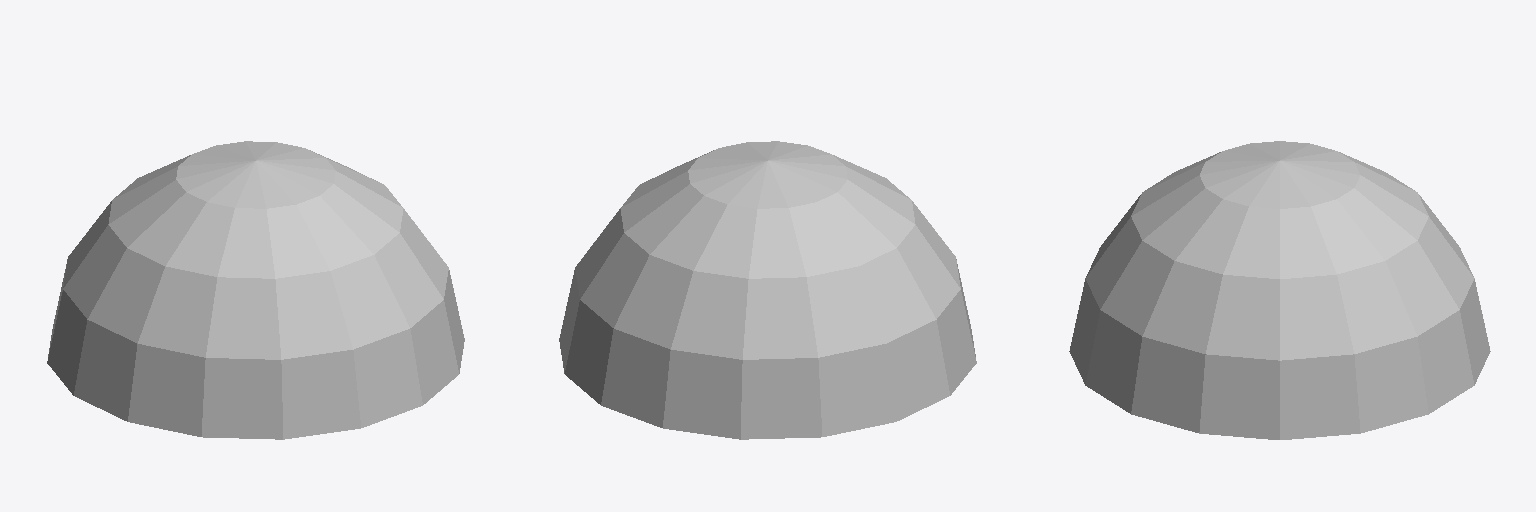
File: skyNight.obj
3 views of the same model, side by side, from view 1: azimuth 30°, elevation 25°; view 2: azimuth 150°, elevation 25°; view 3: azimuth 270°, elevation 25° (orthographic).
Visible parts, largest first — view 1: sky.Night_sky; view 2: sky.Night_sky; view 3: sky.Night_sky.
Part boxes in pixels (bbox=[...]): sky.Night_sky: bbox=[47, 141, 464, 439]; sky.Night_sky: bbox=[559, 141, 976, 439]; sky.Night_sky: bbox=[1069, 141, 1490, 439].
Bounding box in the file's own units: 2.4 × 1.2 × 2.4.